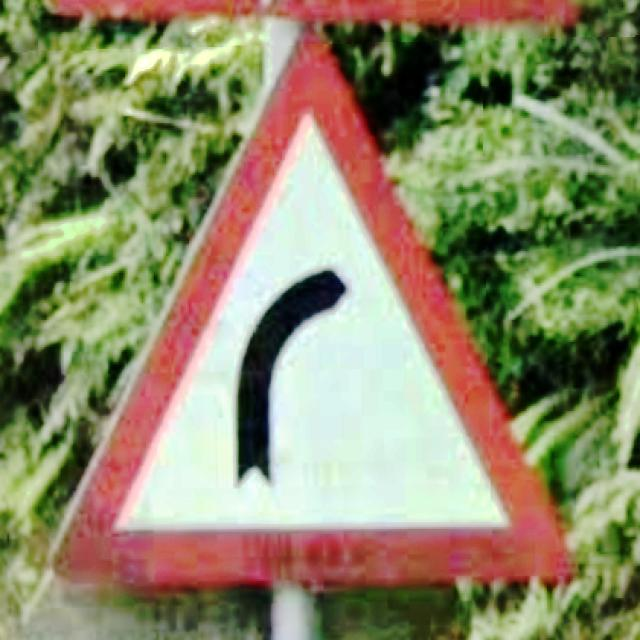rightbend: (52, 32, 573, 591)
